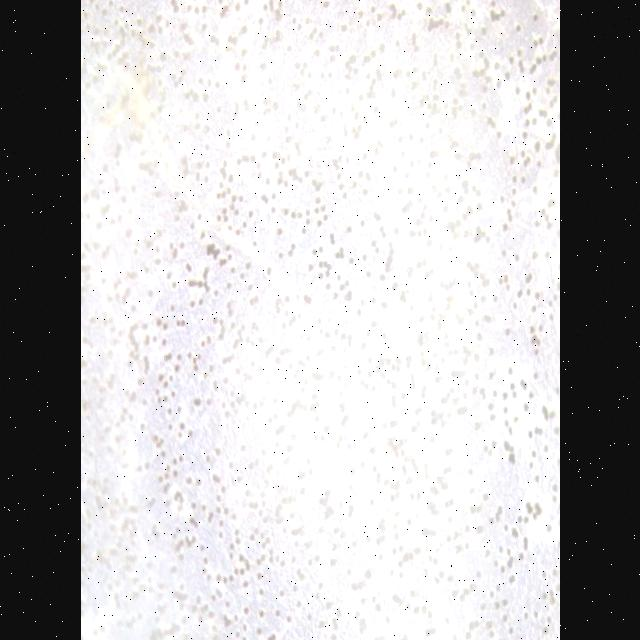Fibre: (109, 61, 452, 640)
